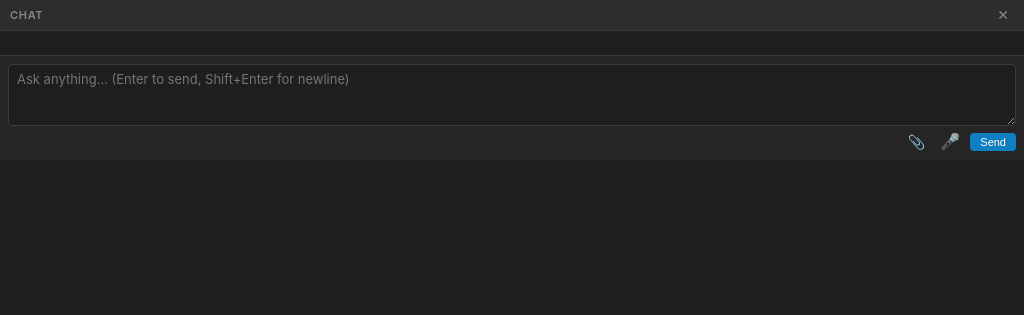
Scenario: ChatPanel › renders tool pill for tool events
Type "run ls" into the text box with placeholder "Ask anything… (Enter to send, Shift+Enter for newline)" at x=512, y=95, box [8,64,1016,126]
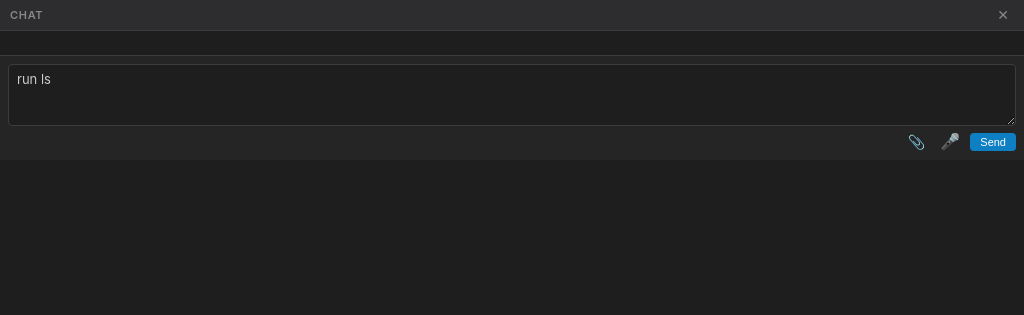
Click the button "Send" at x=993, y=142, box [970,133,1016,151]
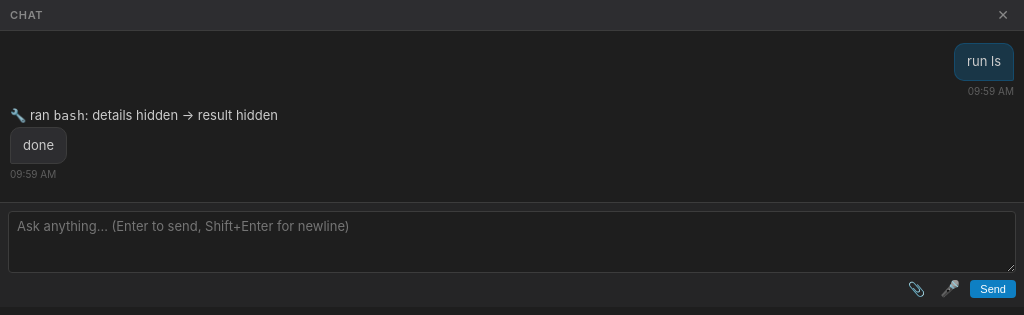
Check: the element with test id "tool-pill" is shown, box [10,106,278,122]
Check: the element with test id "tool-pill" shows "bash", box [53,108,85,122]
Check: the element with test id "tool-pill" shows "details hidden", box [92,106,178,122]
